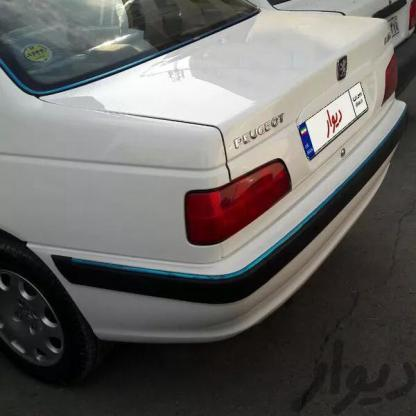Car: (0, 0, 414, 416), (258, 0, 415, 42)
